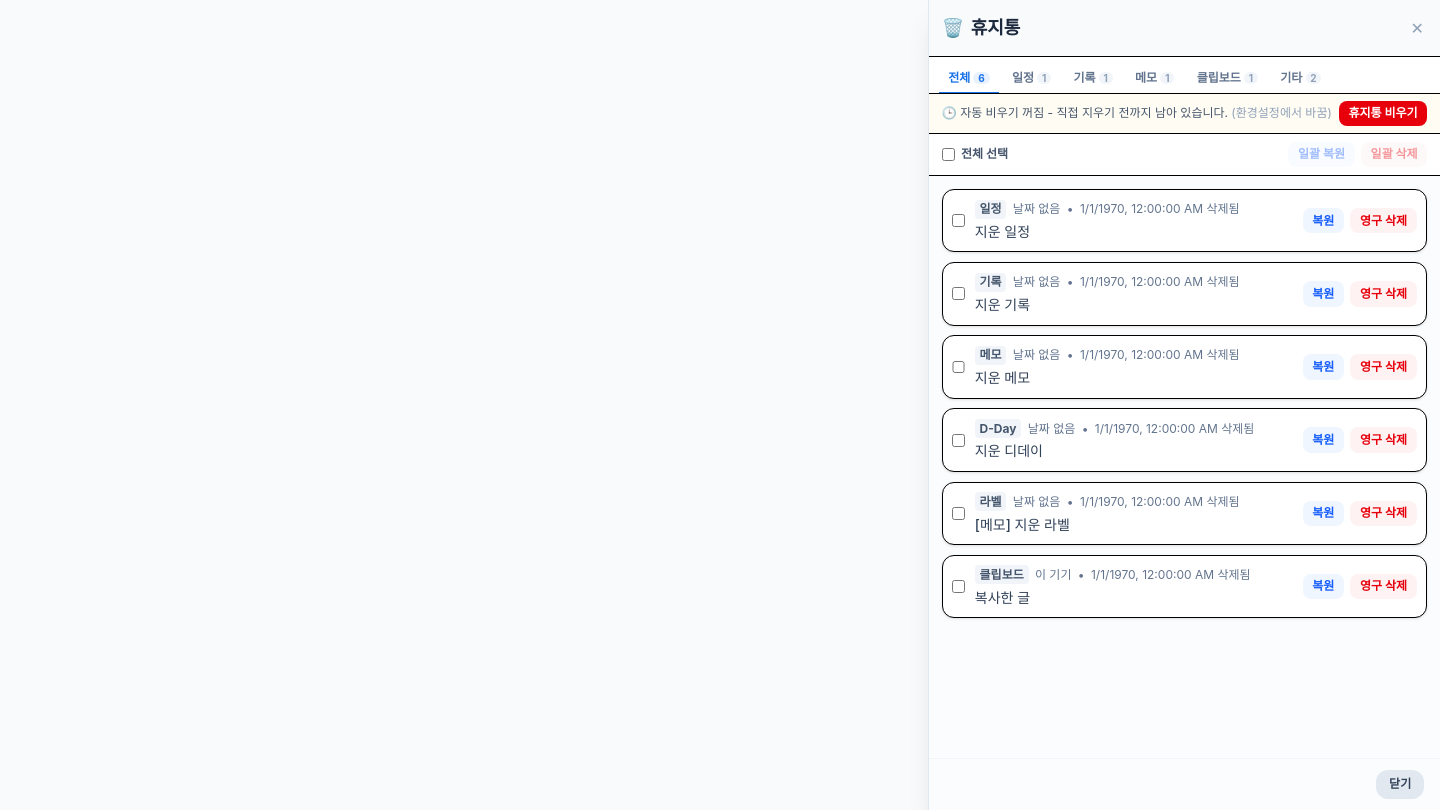
Scenario: 휴지통 - 종류별 탭 › 탭마다 개수가 붙고, 누르면 그 종류만 보인다
The width and height of the screenshot is (1440, 810).
Expected: the text "지운 일정" is shown, [975, 223, 1030, 240]
Expected: the tab "전체6" is shown, [939, 63, 999, 94]
Step 1. Click the tab "메모1" → (1155, 79), box [1126, 63, 1184, 94]
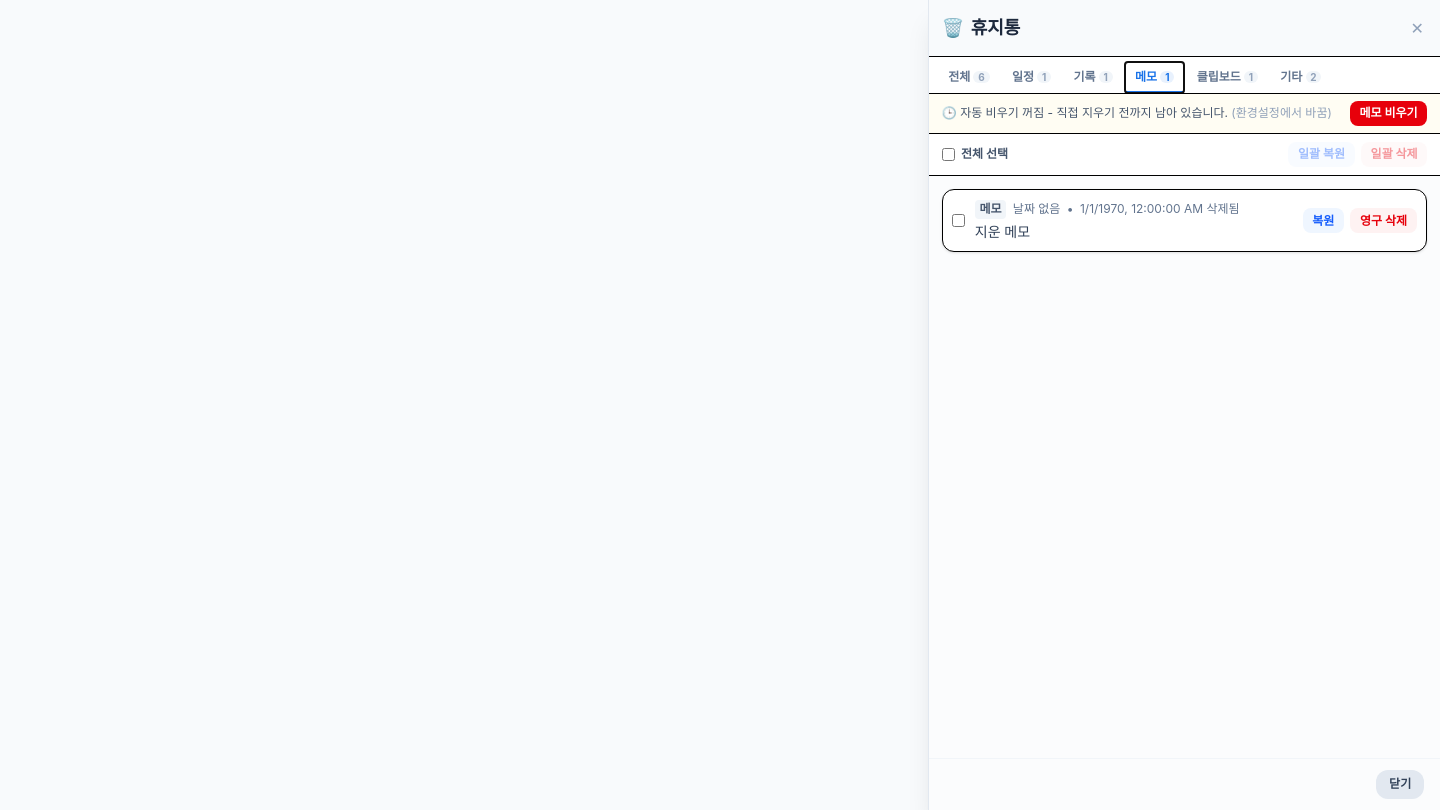
Expected: the text "지운 메모" is shown, [975, 223, 1030, 240]
Expected: the text "지운 일정" is gone
Step 2. Click the tab "기타2" → (1301, 78), box [1271, 62, 1331, 93]
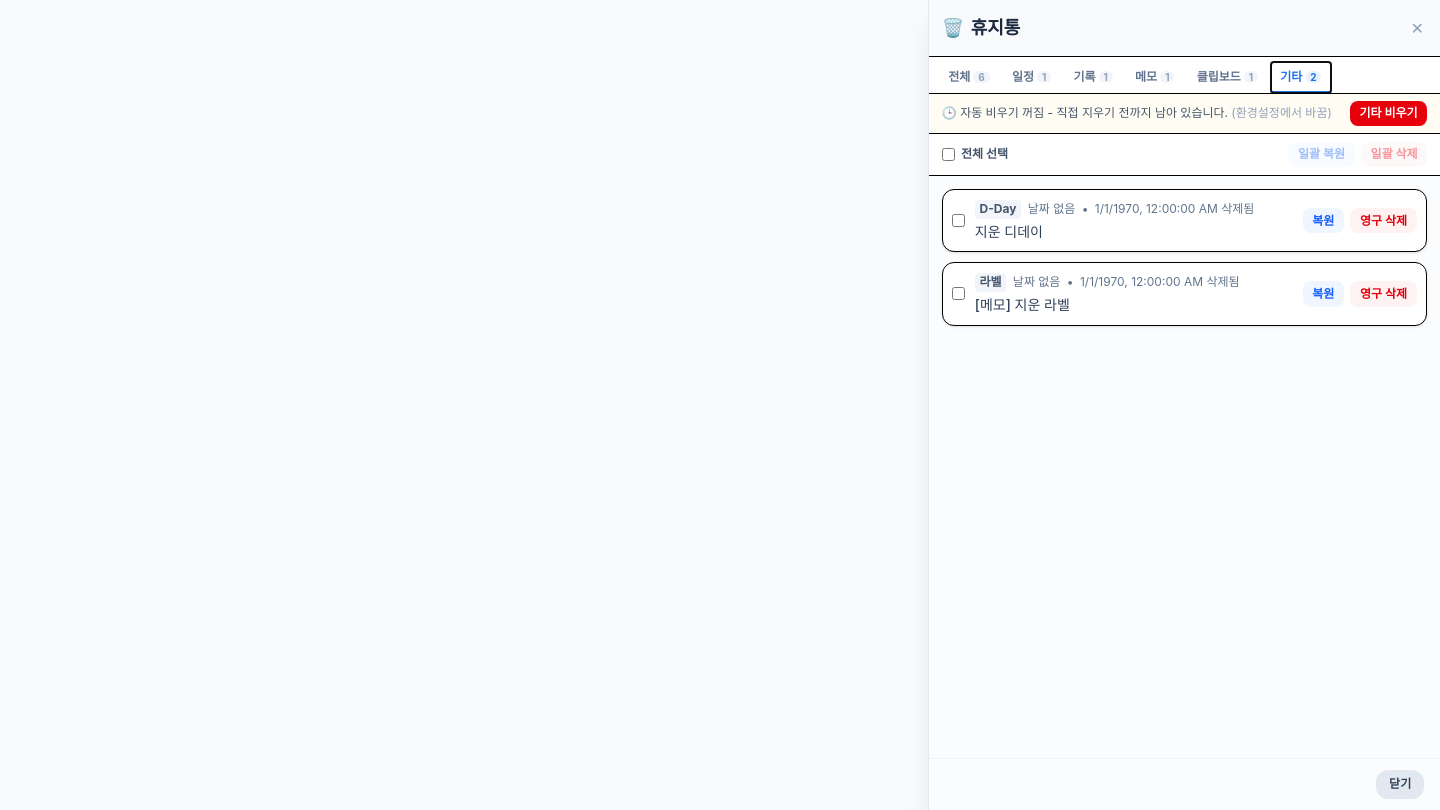
Expected: the text "지운 디데이" is shown, [975, 223, 1043, 240]
Expected: the text "[메모] 지운 라벨" is shown, [975, 296, 1070, 313]
Expected: the text "지운 메모" is gone
